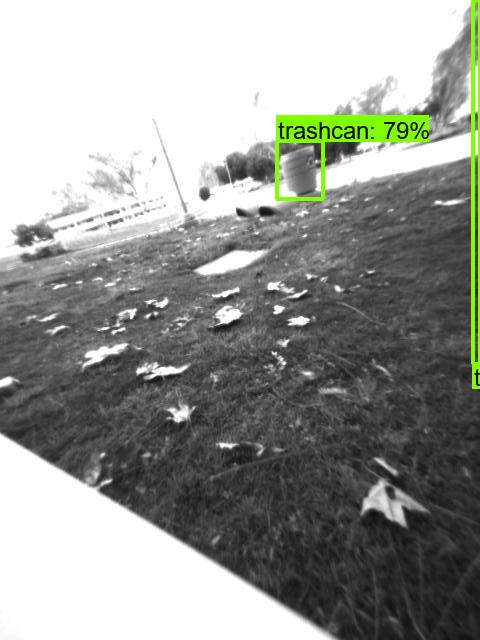trashcan: (279, 142, 322, 198)
